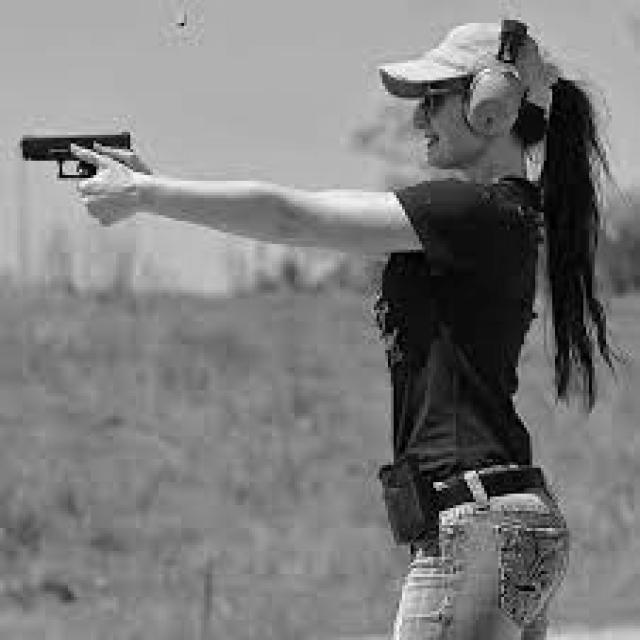gun: (20, 132, 133, 182)
